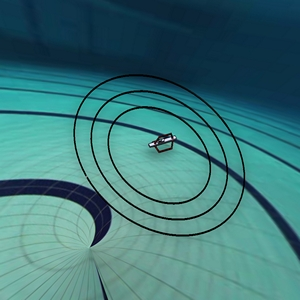circle: (46, 58, 269, 239)
submarine: (146, 128, 181, 164)
